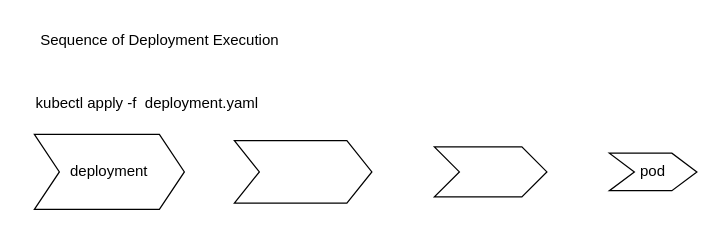
This 719x231 diagram has some shape labels left out. The box of each missing label's shape, as (x1, y1, x2, y2) in pixels:
daemonset: (433, 146, 547, 197)
replicaset: (233, 139, 372, 203)
